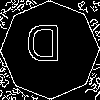D: (25, 25, 62, 71)
